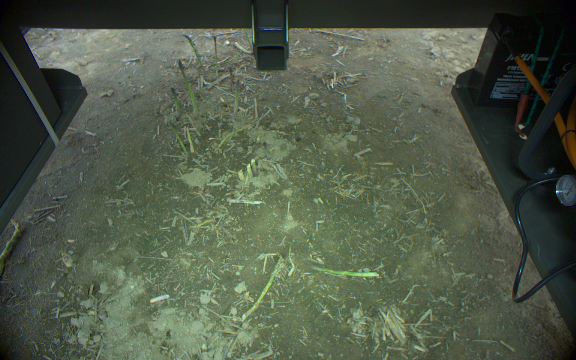aspa: (242, 256, 283, 321), (177, 59, 198, 115), (308, 265, 379, 279), (182, 33, 203, 79), (169, 122, 186, 153), (213, 33, 221, 85), (185, 121, 195, 154), (233, 78, 242, 113), (170, 87, 179, 116), (261, 139, 271, 159), (227, 67, 236, 88)
